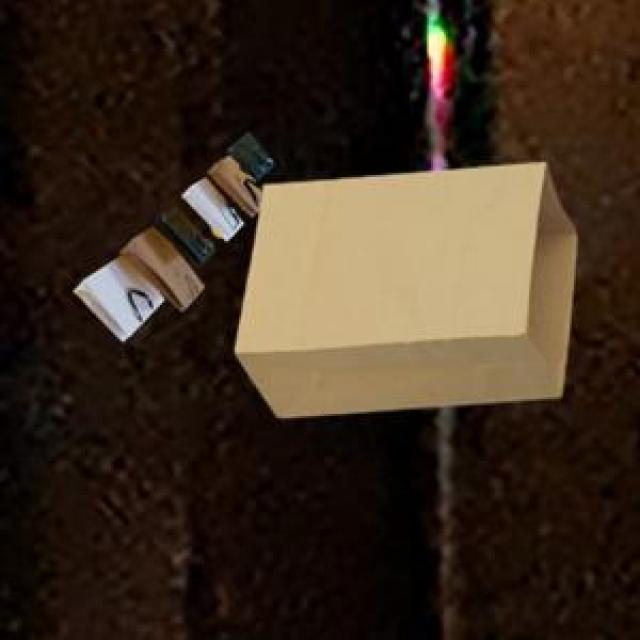PaperCardboard: (229, 165, 573, 418), (83, 139, 270, 328)
